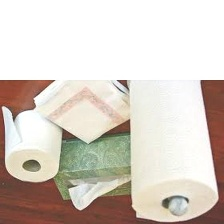book: (47, 130, 144, 204)
tissue: (123, 79, 223, 224), (0, 100, 68, 189), (63, 171, 136, 215)
